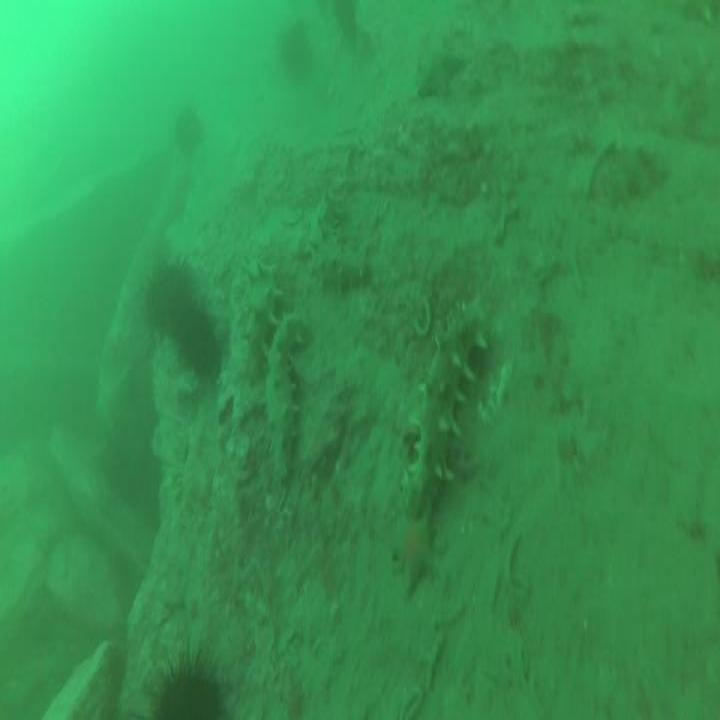echinus: (153, 663, 220, 720), (146, 263, 190, 333), (184, 306, 221, 371), (280, 25, 308, 75), (175, 105, 199, 149)
holothurian: (400, 293, 492, 505), (268, 309, 310, 475), (241, 251, 281, 341), (315, 233, 369, 295)
starfish: (389, 514, 435, 590)
